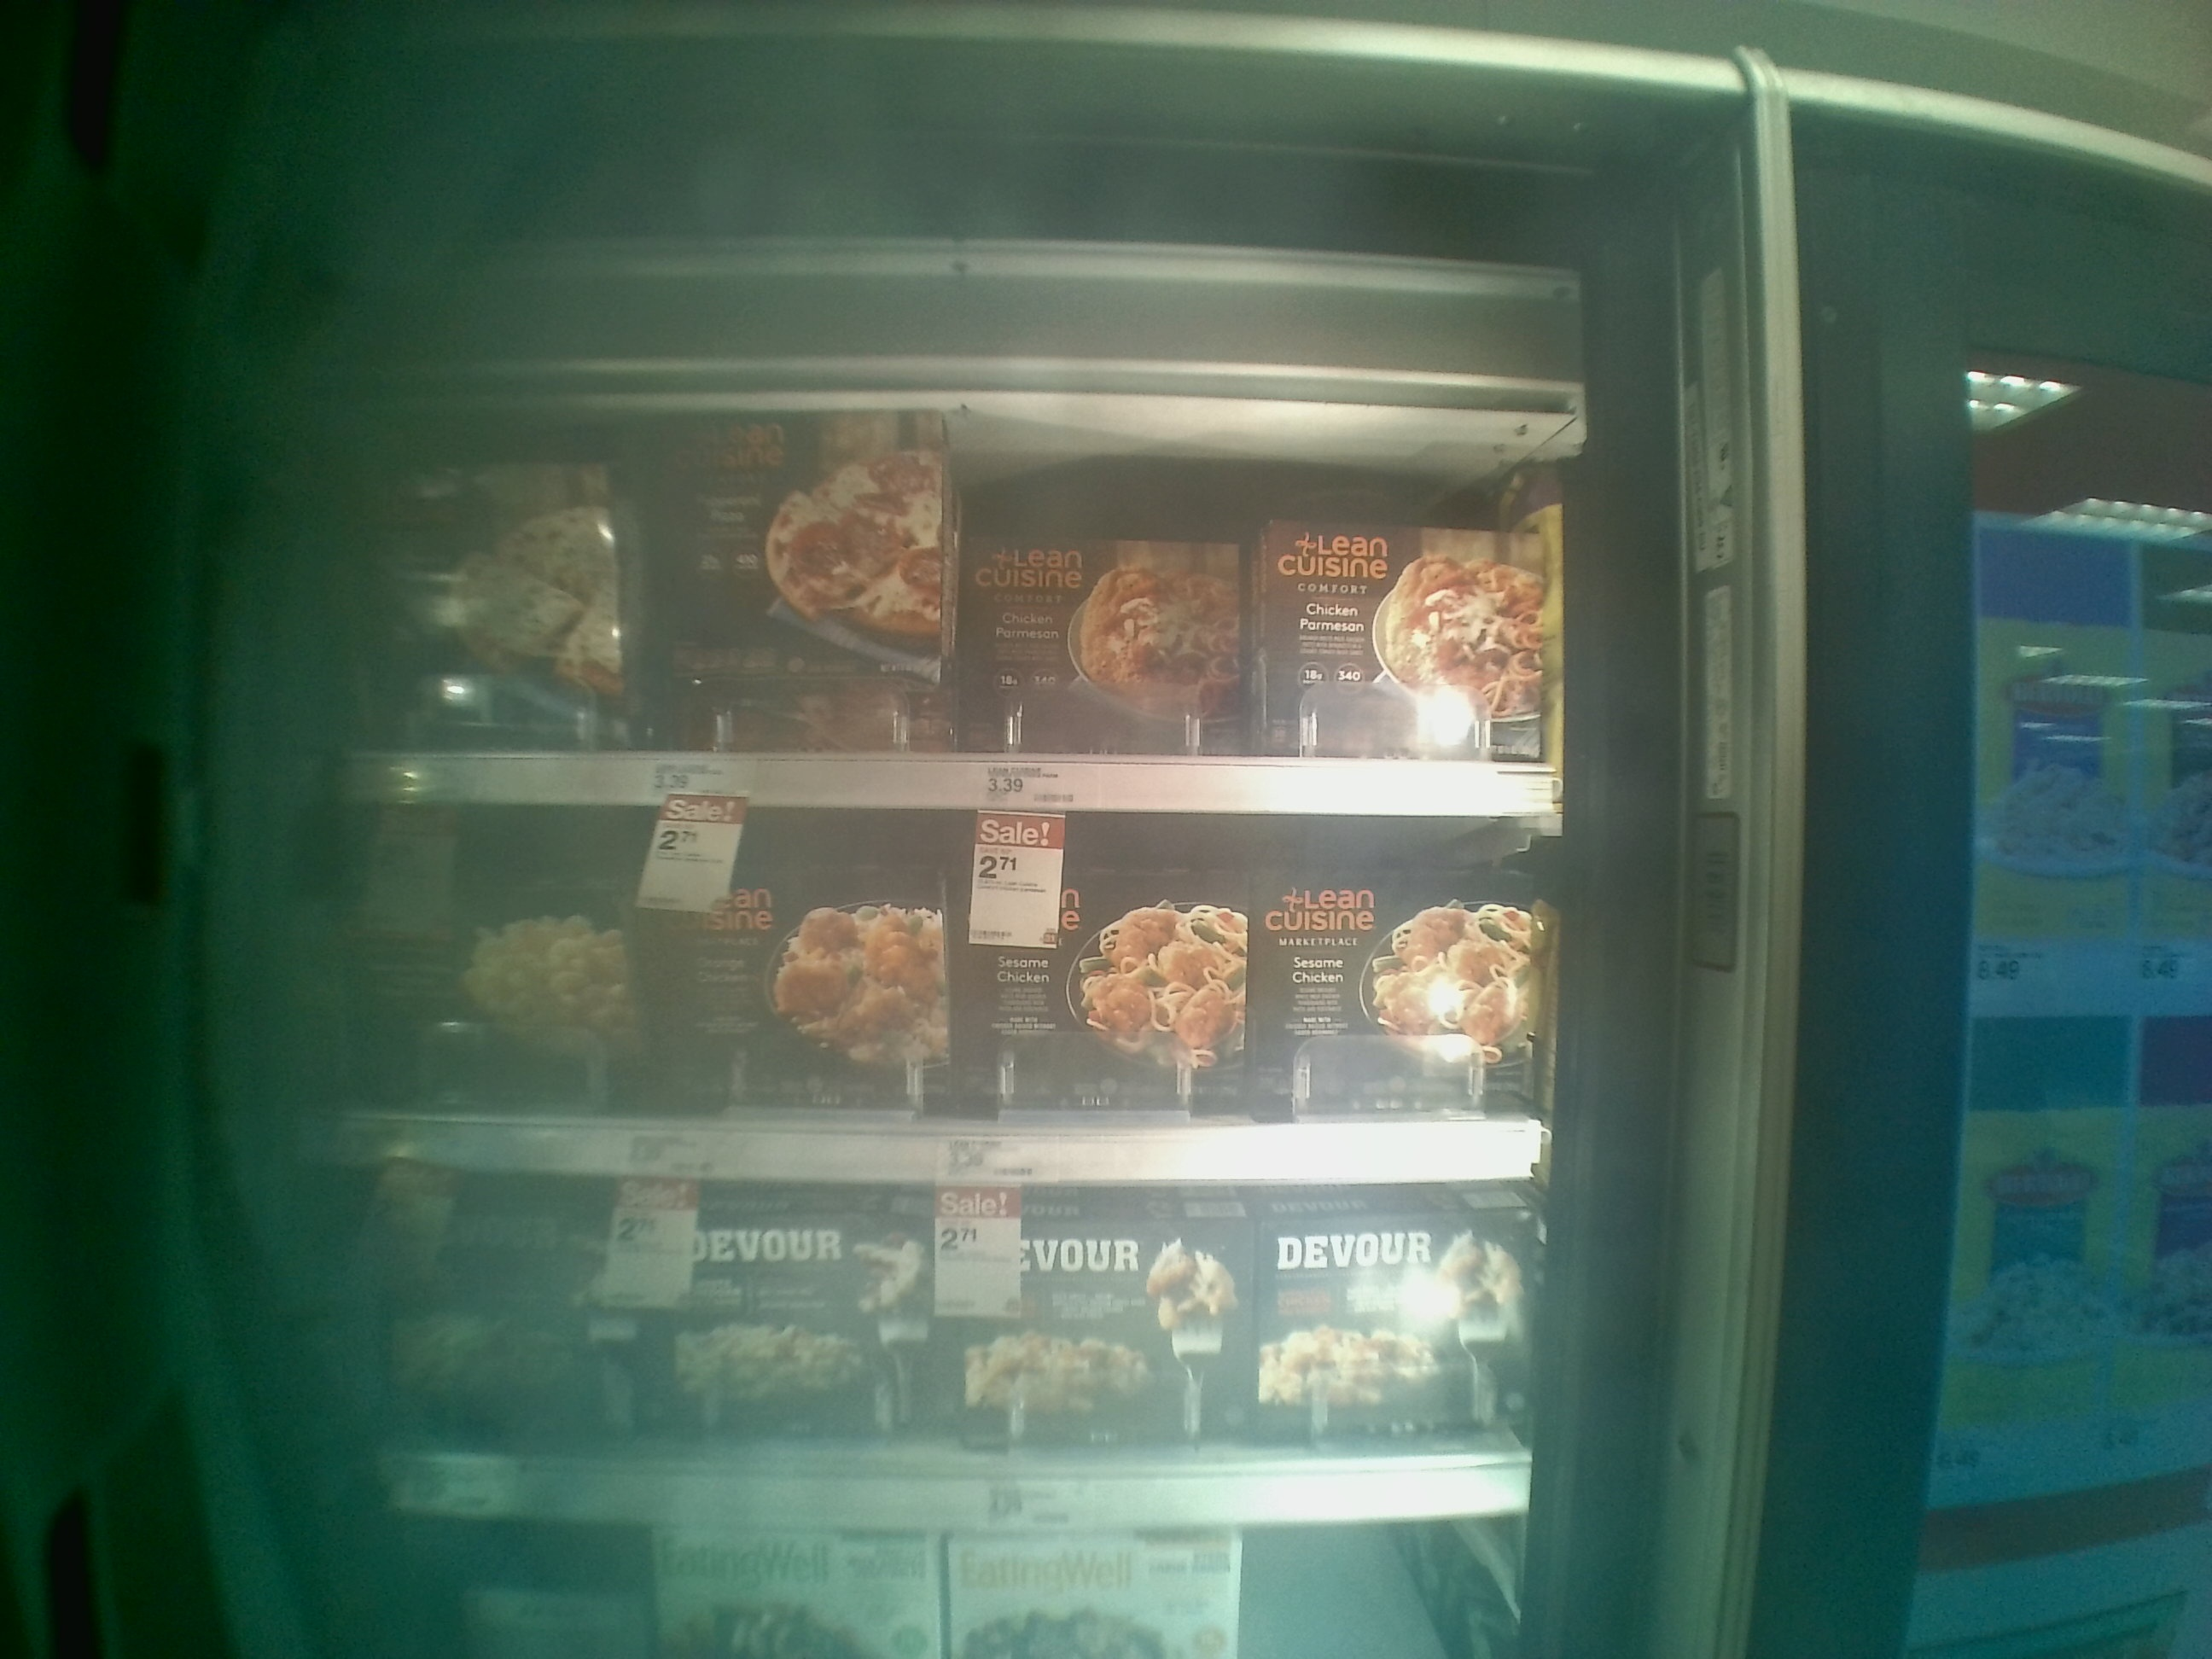shelf: (329, 791, 1538, 1178)
